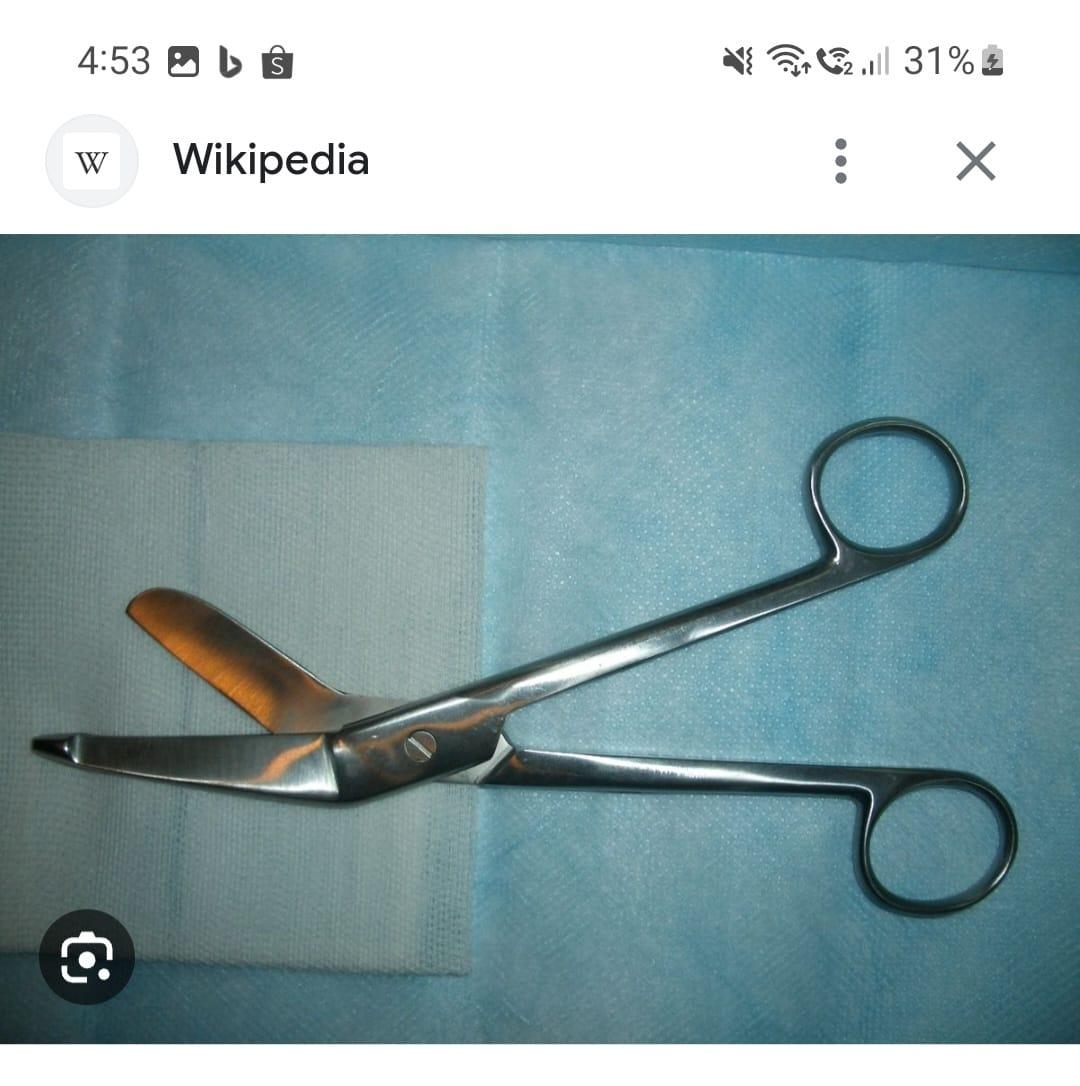Bandage Sciccors: (38, 412, 1027, 922)
